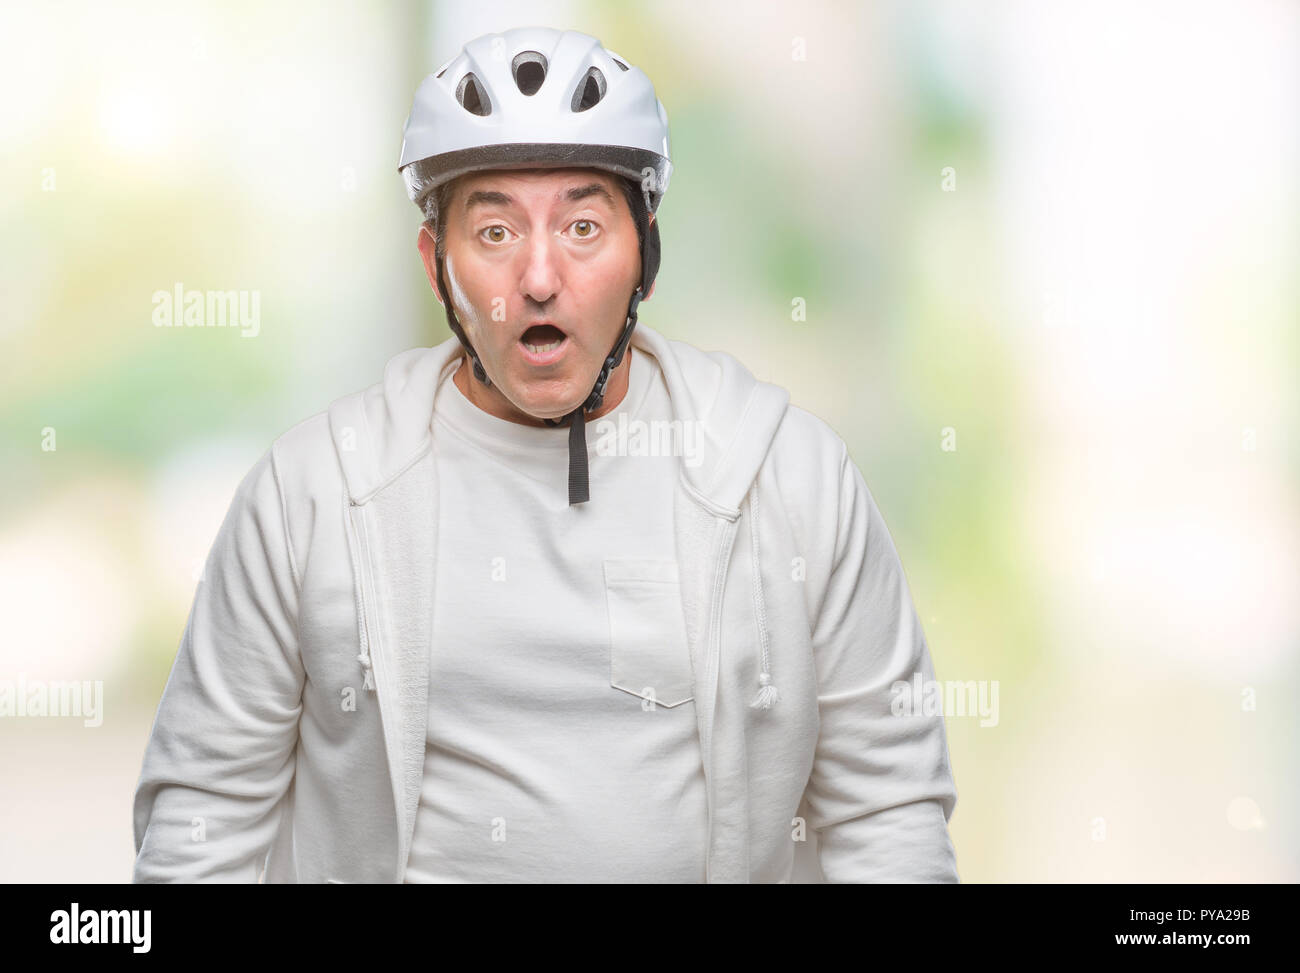helmet: (398, 27, 671, 419)
